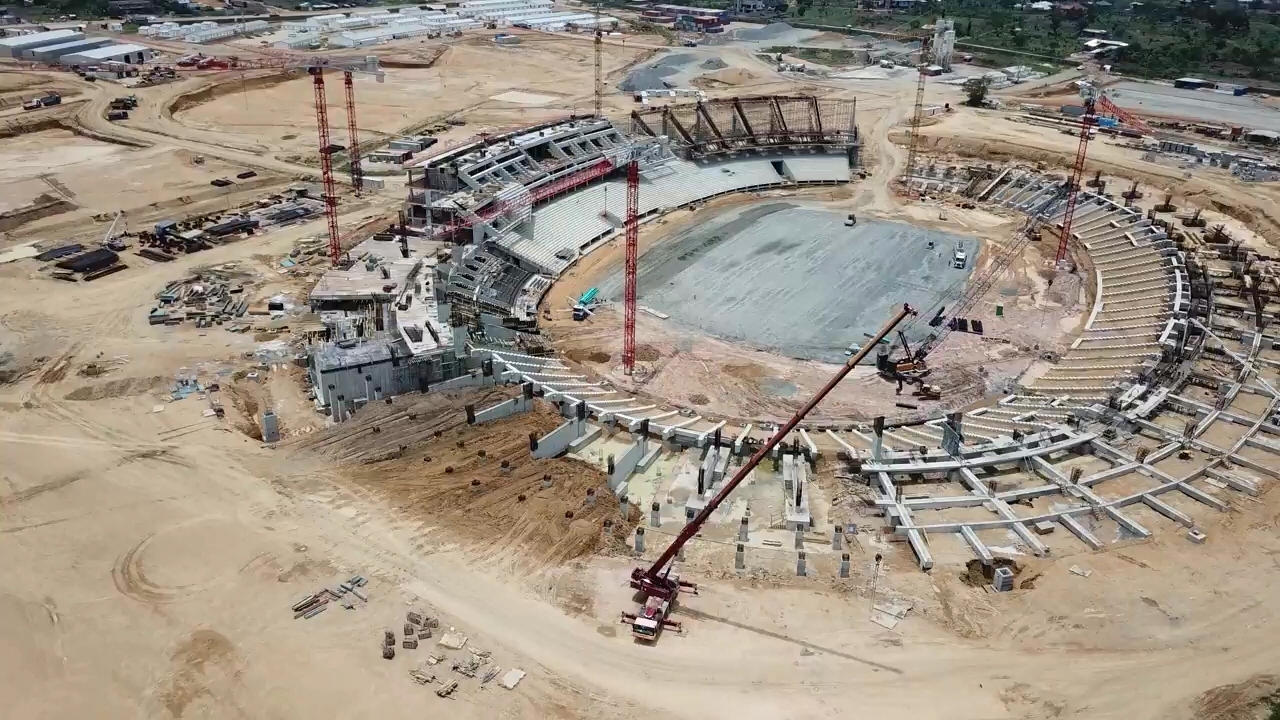ismakinesi: (892, 369, 943, 404)
kamyon: (622, 564, 696, 643), (572, 288, 605, 320)
